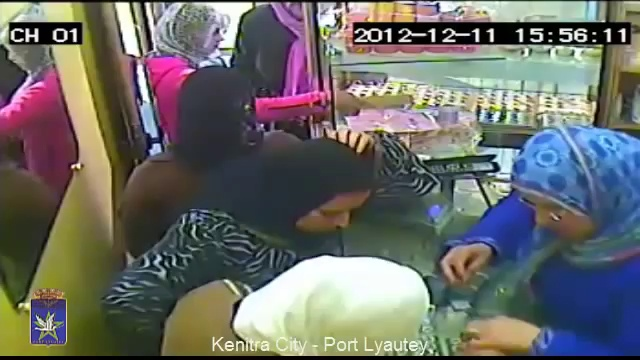face: (522, 183, 587, 243), (301, 193, 360, 239)
